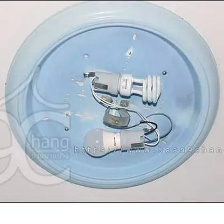light_bulb: (0, 0, 224, 191)
